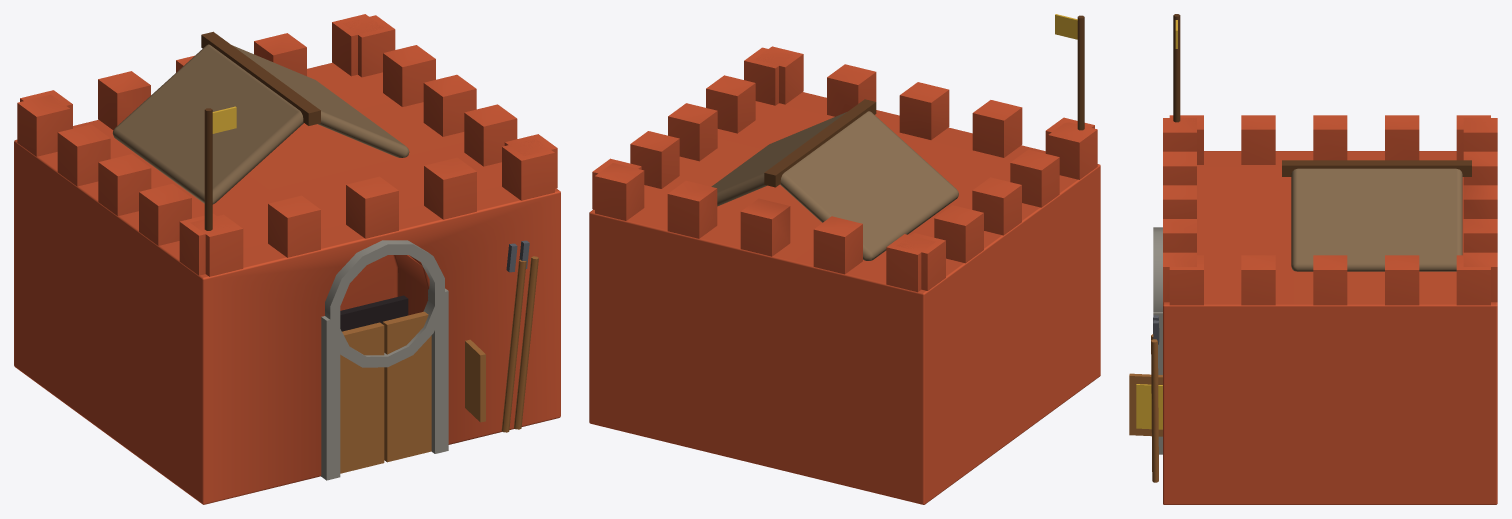
The model's file is Buildings__barracks.glb.
3 renders of one model, left to right at view 1: azimuth 30°, elevation 25°; view 2: azimuth 150°, elevation 25°; view 3: azimuth 270°, elevation 25°, orthographic. The views are drawn at different scales.
Visible parts, largest first — view 1: barracks_mesh; view 2: barracks_mesh; view 3: barracks_mesh.
Part boxes in pixels (bbox=[...]): barracks_mesh: bbox=[14, 14, 560, 504]; barracks_mesh: bbox=[589, 14, 1100, 504]; barracks_mesh: bbox=[1129, 14, 1497, 504].
Size of the model in its own units: 2.35 by 2.42 by 2.37.
